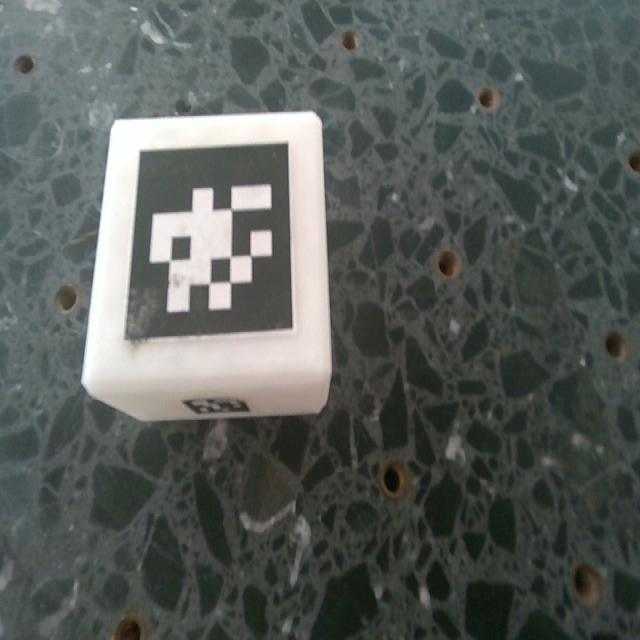Cube: (80, 112, 333, 425)
